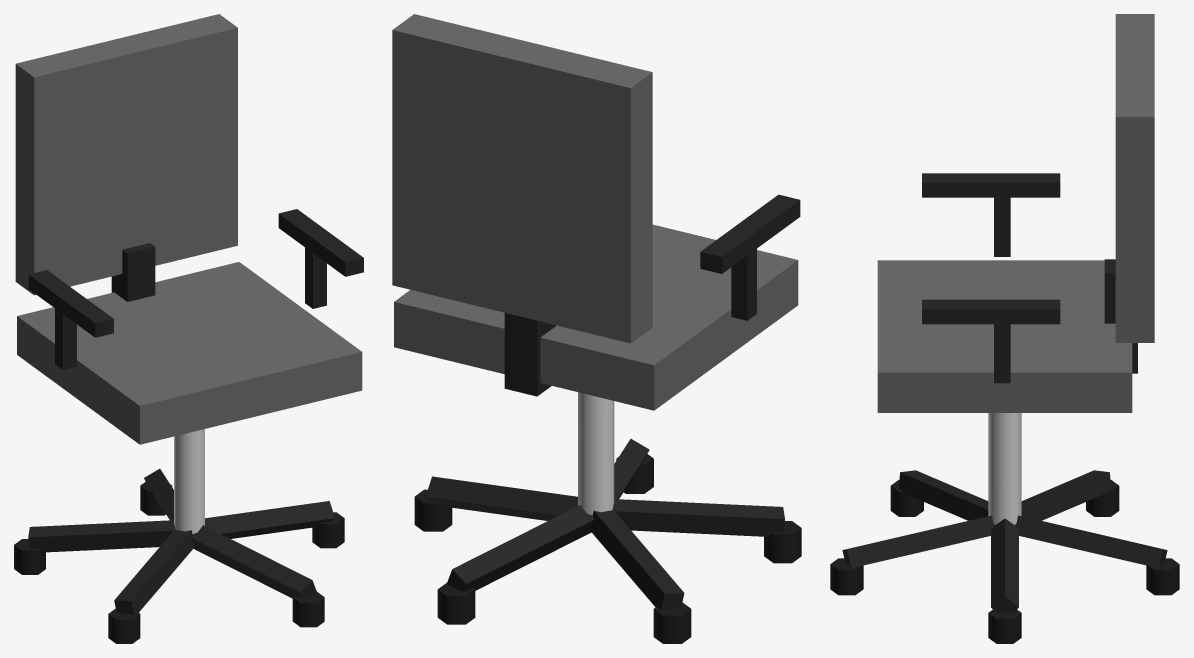
The model's file is office_chair.glb.
The picture shows the model from 3 angles, left to right: view 1: azimuth 30°, elevation 25°; view 2: azimuth 150°, elevation 25°; view 3: azimuth 270°, elevation 25°; orthographic projection. The views are drawn at different scales.
Parts seen in each view (by area): view 1: office_chair; view 2: office_chair; view 3: office_chair.
Part boxes in pixels (x1=…): office_chair: x1=14, y1=14, x2=363, y2=643; office_chair: x1=392, y1=14, x2=801, y2=643; office_chair: x1=830, y1=14, x2=1179, y2=643.
Size of the model in its own units: 0.616 by 1 by 0.6306.
Materials: 1 (1 with a texture image).
